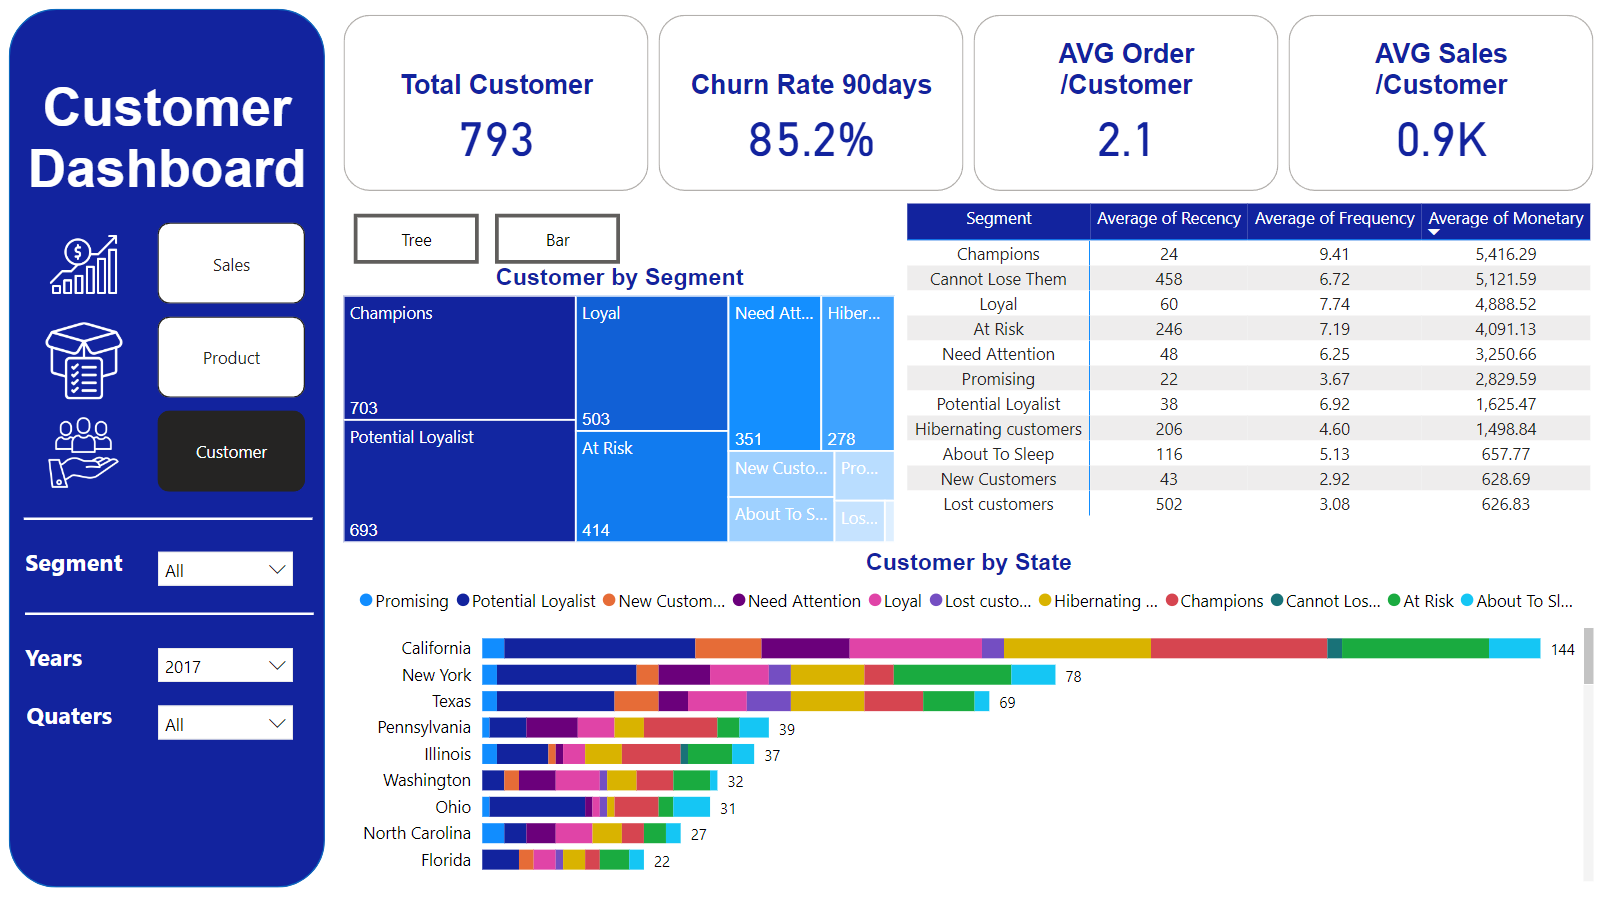

Layout of this report page (visuals, bound fields, positions):
{"tool":"powerbi","page":{"name":"Customer","canvas":[1280,720],"ordinal":2},"visuals":[{"type":"shape","box":[7.2,7.2,252.4,702.5],"z":0},{"type":"textbox","box":[7.2,57.5,252.4,157.2],"z":1000},{"type":"treemap","title":"Customer by Segment","fields":{"Group":["segment scores.Segment"],"Values":["CountNonNull(Fact_Sales.Customer ID)"]},"box":[270,211.2,451.2,227.5],"z":2000},{"type":"cardVisual","fields":{"Data":["Count(RFM.Customer ID)","Measure.ChurnRate90Days","Measure.AVG Order/Customer","Measure.AVG Sales/Customer"]},"box":[270,7,1010,151],"z":3000},{"type":"pivotTable","fields":{"Values":["Avg(RFM.Recency)","Avg(RFM.Frequency)","Avg(RFM.Monetary)"],"Rows":["segment scores.Segment"]},"box":[721.4,158.1,558.8,281.2],"z":4000},{"type":"barChart","title":"Customer by State","fields":{"Category":["DIm_Geography.State"],"Y":["Count(Fact_Sales.Customer ID)"],"Series":["segment scores.Segment"]},"box":[270.4,439.3,1009.8,270.4],"z":5000},{"type":"shape","box":[18.9,398,230.9,34.1],"z":8000},{"type":"textbox","box":[115.9,325.1,110.5,42.2],"z":9000},{"type":"pageNavigator","box":[125.8,177.9,118.6,216.5],"z":10000},{"type":"image","box":[29.6,178,74.6,67.4],"z":11000},{"type":"image","box":[29.6,253.4,74.6,70.1],"z":12000},{"type":"image","box":[29.6,326.2,74.6,71.9],"z":13000},{"type":"actionButton","title":"Tree","box":[282.5,171.2,100,40],"z":19000},{"type":"actionButton","title":"bar","box":[396.2,171.2,100,40],"z":20000},{"type":"slicer","fields":{"Values":["Calendar.Year"]},"box":[116,508,128,44],"z":21001},{"type":"textbox","box":[15.3,432.1,100.6,42.2],"z":21002},{"type":"slicer","fields":{"Values":["segment scores.Segment"]},"box":[116,431,128,45],"z":21003},{"type":"shape","box":[19.8,474.3,230.9,34.1],"z":21004},{"type":"textbox","box":[15,508,90,43],"z":21005},{"type":"textbox","box":[16,554,89,43],"z":21006},{"type":"slicer","fields":{"Values":["Calendar.Quater"]},"box":[116,554,128,45],"z":21007}]}

Visuals, with their boxes in screenshot pixels (x1, y1, x2, y2), scaled from the page's 1280x720 canvas onto the 1599x901 screenshot:
shape: [left=9, top=9, right=324, bottom=888]
textbox: [left=9, top=72, right=324, bottom=269]
"Customer by Segment" treemap: [left=337, top=264, right=901, bottom=549]
cardVisual - Count(RFM.Customer ID) x Measure.ChurnRate90Days: [left=337, top=9, right=1598, bottom=198]
pivotTable - Avg(RFM.Recency) x Avg(RFM.Frequency): [left=901, top=198, right=1598, bottom=550]
"Customer by State" barChart: [left=338, top=550, right=1598, bottom=888]
shape: [left=24, top=498, right=312, bottom=541]
textbox: [left=145, top=407, right=283, bottom=460]
pageNavigator: [left=157, top=223, right=305, bottom=494]
image: [left=37, top=223, right=130, bottom=307]
image: [left=37, top=317, right=130, bottom=405]
image: [left=37, top=408, right=130, bottom=498]
"Tree" actionButton: [left=353, top=214, right=478, bottom=264]
"bar" actionButton: [left=495, top=214, right=620, bottom=264]
slicer - Calendar.Year: [left=145, top=636, right=305, bottom=691]
textbox: [left=19, top=541, right=145, bottom=594]
slicer - segment scores.Segment: [left=145, top=539, right=305, bottom=596]
shape: [left=25, top=594, right=313, bottom=636]
textbox: [left=19, top=636, right=131, bottom=690]
textbox: [left=20, top=693, right=131, bottom=747]
slicer - Calendar.Quater: [left=145, top=693, right=305, bottom=750]
